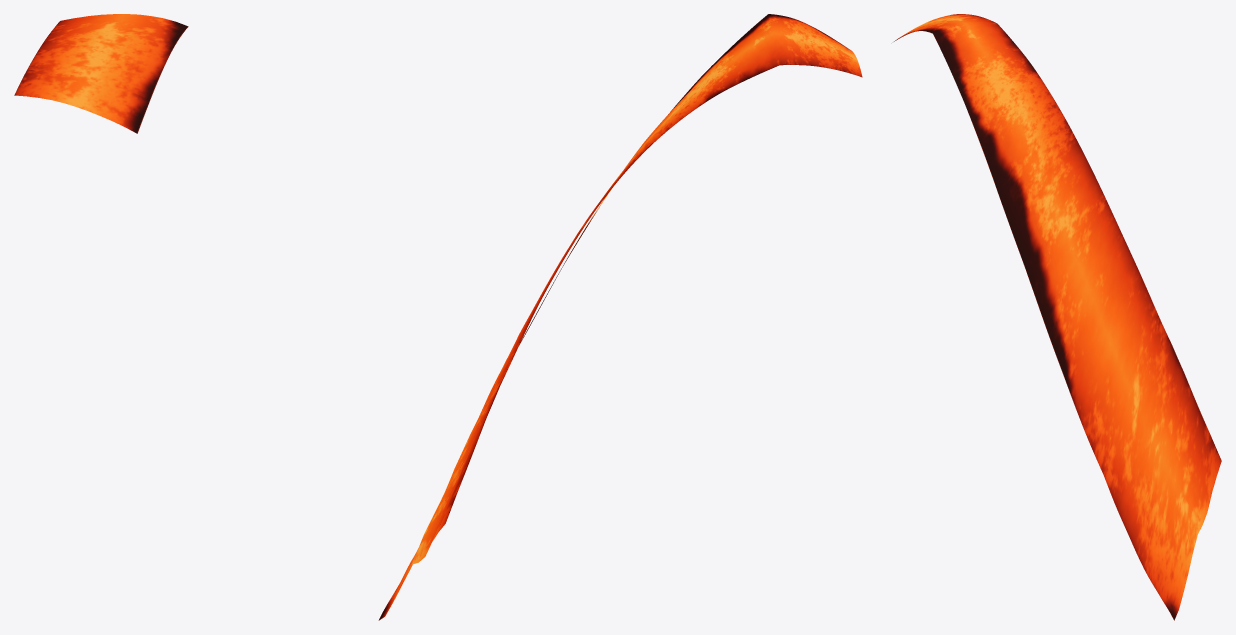
Rendered from flow_1_0.glb.
3 views of the same model, side by side, from view 1: azimuth 30°, elevation 25°; view 2: azimuth 150°, elevation 25°; view 3: azimuth 270°, elevation 25° (orthographic). The views are drawn at different scales.
Size of the model in its own units: 12.04 by 18.38 by 11.35.
